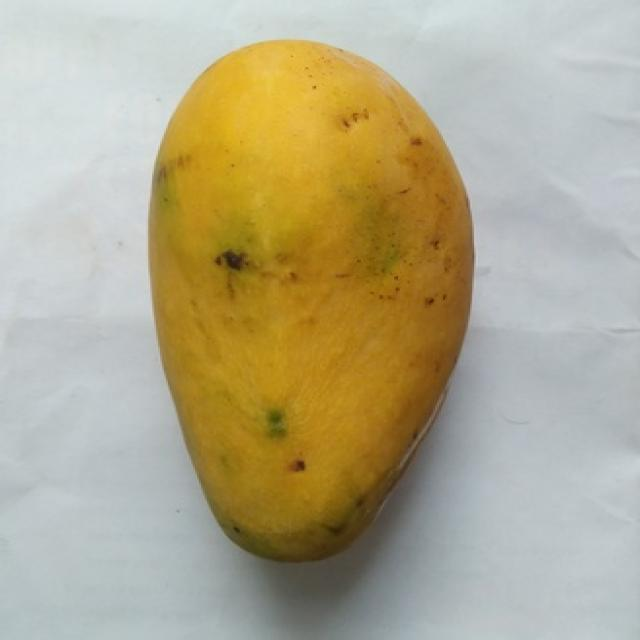Mango: (148, 40, 472, 560)
